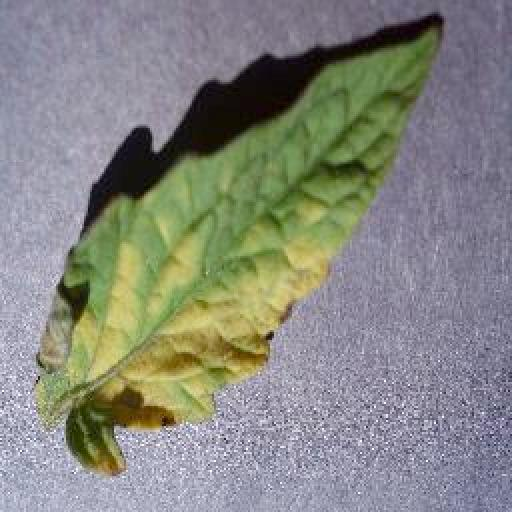disease_tomato: (34, 17, 446, 479)
